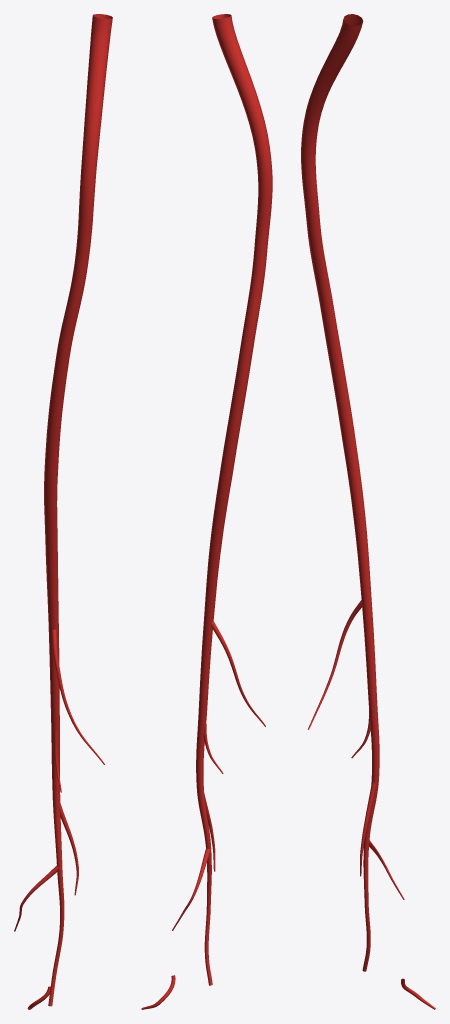
Rendered from circulatorio-fibular-artery-r.glb.
3 views of the same model, side by side, from view 1: azimuth 90°, elevation 25°; view 2: azimuth 150°, elevation 25°; view 3: azimuth 330°, elevation 25° (orthographic). The views are drawn at different scales.
Visible parts, largest first — view 1: Fibular artery.r; view 2: Fibular artery.r; view 3: Fibular artery.r.
Part boxes in pixels (box(x1,y1,x2,y2)): Fibular artery.r: box(14, 14, 112, 1006); Fibular artery.r: box(172, 14, 272, 985); Fibular artery.r: box(301, 14, 404, 971).
Size of the model in its own units: 0.0361 by 0.331 by 0.0291.
